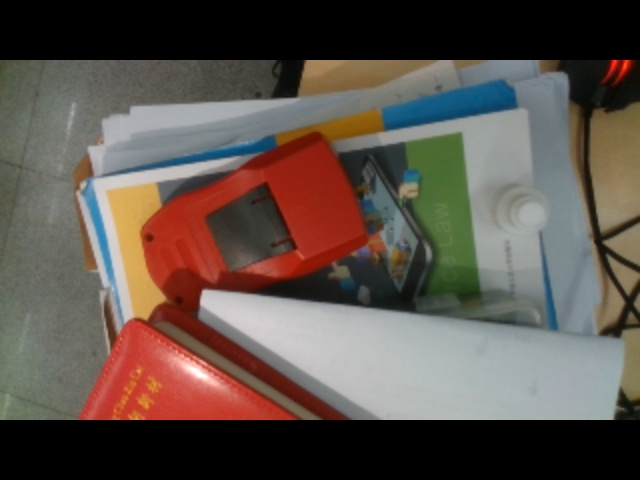Multimeter: (139, 131, 367, 315)
Screw holes: (142, 231, 155, 243), (173, 293, 185, 306)
